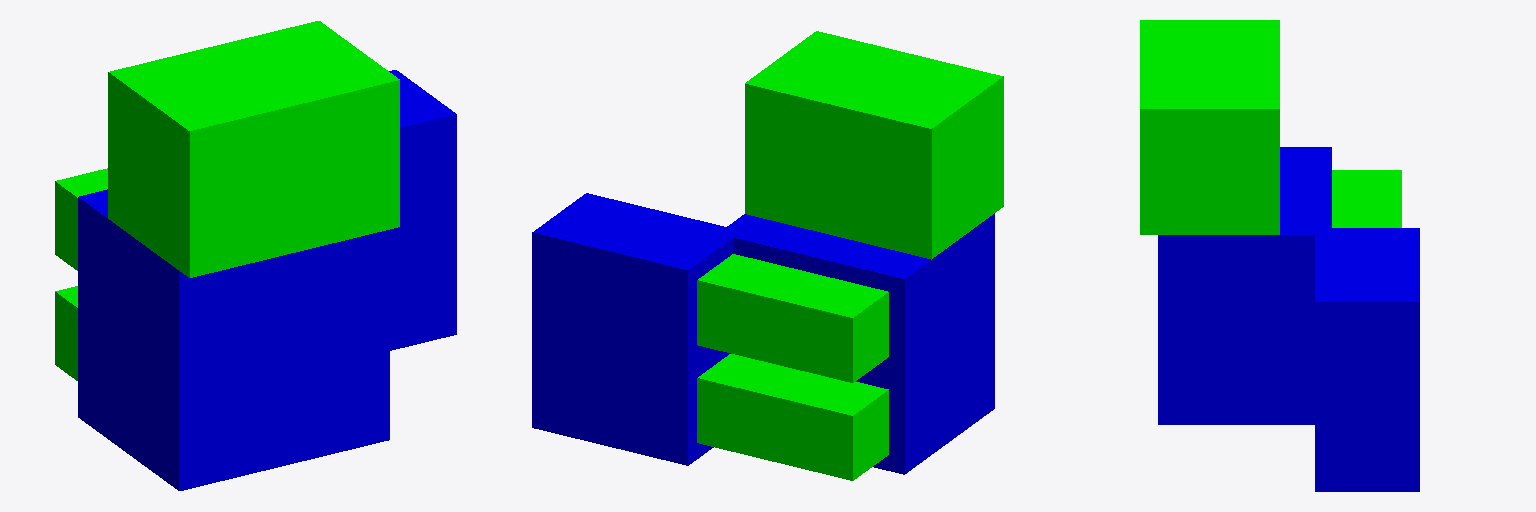
robot.urdf — robot:
<robot name = "robot">
    <link name="root">
        <inertial>
            <origin xyz="0.0 0.0 1.5" rpy="0 0 0"/>
            <mass value="1" />
            <inertia ixx="100" ixy="0" ixz="0" iyy="100" iyz="0" izz="100" />
        </inertial>
        <visual>
            <origin xyz="0.0 0.0 1.5" rpy="0 0 0"/>
            <geometry>
                <box size="0 0 0.0001" />
            </geometry>
            <material name="Green">
                <color rgba="0 1.0 0.0 1.0"/>
            </material>
        </visual>
        <collision>
            <origin xyz="0.0 0.0 1.5" rpy="0 0 0"/>
            <geometry>
                <box size="0 0 0.0001" />
            </geometry>
        </collision>
    </link>
    <joint name="root_000" type="revolute">
       <parent link="root"/>
       <child  link="000"/>
       <origin rpy="0 0 0" xyz="0.0 0.0 1.5" />
     <axis xyz="1 0 0"/>
       <limit effort="0.0" lower="-3.14159" upper="3.14159" velocity="0.0"/>
    </joint>
    <link name="000">
        <inertial>
            <origin xyz="0.0 0.1 0.0" rpy="0 0 0"/>
            <mass value="1" />
            <inertia ixx="100" ixy="0" ixz="0" iyy="100" iyz="0" izz="100" />
        </inertial>
        <visual>
            <origin xyz="0.0 0.1 0.0" rpy="0 0 0"/>
            <geometry>
                <box size="0.6 0.2 0.4" />
            </geometry>
            <material name="Green">
                <color rgba="0 1.0 0.0 1.0"/>
            </material>
        </visual>
        <collision>
            <origin xyz="0.0 0.1 0.0" rpy="0 0 0"/>
            <geometry>
                <box size="0.6 0.2 0.4" />
            </geometry>
        </collision>
    </link>
    <joint name="000_010" type="revolute">
       <parent link="000"/>
       <child  link="010"/>
       <origin rpy="0 0 0" xyz="0.0 0.2 -0.0" />
     <axis xyz="0 1 0"/>
       <limit effort="0.0" lower="-3.14159" upper="3.14159" velocity="0.0"/>
    </joint>
    <link name="010">
        <inertial>
            <origin xyz="0.0 0.1 -0.0" rpy="0 0 0"/>
            <mass value="1" />
            <inertia ixx="100" ixy="0" ixz="0" iyy="100" iyz="0" izz="100" />
        </inertial>
        <visual>
            <origin xyz="0.0 0.1 -0.0" rpy="0 0 0"/>
            <geometry>
                <box size="0.6 0.2 0.4" />
            </geometry>
            <material name="Green">
                <color rgba="0 1.0 0.0 1.0"/>
            </material>
        </visual>
        <collision>
            <origin xyz="0.0 0.1 -0.0" rpy="0 0 0"/>
            <geometry>
                <box size="0.6 0.2 0.4" />
            </geometry>
        </collision>
    </link>
    <joint name="010_010-100" type="revolute">
       <parent link="010"/>
       <child  link="010-100"/>
       <origin rpy="0 0 0" xyz="0.0 0.1 -0.2" />
     <axis xyz="0 0 1"/>
       <limit effort="0.0" lower="-3.14159" upper="3.14159" velocity="0.0"/>
    </joint>
    <link name="010-100">
        <inertial>
            <origin xyz="0.0 0.0 -0.15" rpy="0 0 0"/>
            <mass value="1" />
            <inertia ixx="100" ixy="0" ixz="0" iyy="100" iyz="0" izz="100" />
        </inertial>
        <visual>
            <origin xyz="0.0 0.0 -0.15" rpy="0 0 0"/>
            <geometry>
                <box size="0.6 0.5 0.3" />
            </geometry>
            <material name="Blue">
                <color rgba="0 0.0 1.0 1.0"/>
            </material>
        </visual>
        <collision>
            <origin xyz="0.0 0.0 -0.15" rpy="0 0 0"/>
            <geometry>
                <box size="0.6 0.5 0.3" />
            </geometry>
        </collision>
    </link>
    <joint name="010-100_010-110" type="revolute">
       <parent link="010-100"/>
       <child  link="010-110"/>
       <origin rpy="0 0 0" xyz="0.0 0.0 -0.3" />
     <axis xyz="0 0 1"/>
       <limit effort="0.0" lower="-3.14159" upper="3.14159" velocity="0.0"/>
    </joint>
    <link name="010-110">
        <inertial>
            <origin xyz="0.0 0.0 -0.15" rpy="0 0 0"/>
            <mass value="1" />
            <inertia ixx="100" ixy="0" ixz="0" iyy="100" iyz="0" izz="100" />
        </inertial>
        <visual>
            <origin xyz="0.0 0.0 -0.15" rpy="0 0 0"/>
            <geometry>
                <box size="0.6 0.5 0.3" />
            </geometry>
            <material name="Blue">
                <color rgba="0 0.0 1.0 1.0"/>
            </material>
        </visual>
        <collision>
            <origin xyz="0.0 0.0 -0.15" rpy="0 0 0"/>
            <geometry>
                <box size="0.6 0.5 0.3" />
            </geometry>
        </collision>
    </link>
    <joint name="010-110_010-110-200" type="revolute">
       <parent link="010-110"/>
       <child  link="010-110-200"/>
       <origin rpy="0 0 0" xyz="0.0 0.25 -0.15" />
     <axis xyz="0 1 0"/>
       <limit effort="0.0" lower="-3.14159" upper="3.14159" velocity="0.0"/>
    </joint>
    <link name="010-110-200">
        <inertial>
            <origin xyz="0.0 0.1 -0.0" rpy="0 0 0"/>
            <mass value="1" />
            <inertia ixx="100" ixy="0" ixz="0" iyy="100" iyz="0" izz="100" />
        </inertial>
        <visual>
            <origin xyz="0.0 0.1 -0.0" rpy="0 0 0"/>
            <geometry>
                <box size="0.5 0.2 0.2" />
            </geometry>
            <material name="Green">
                <color rgba="0 1.0 0.0 1.0"/>
            </material>
        </visual>
        <collision>
            <origin xyz="0.0 0.1 -0.0" rpy="0 0 0"/>
            <geometry>
                <box size="0.5 0.2 0.2" />
            </geometry>
        </collision>
    </link>
    <joint name="010-110-200_010-110-200-300" type="revolute">
       <parent link="010-110-200"/>
       <child  link="010-110-200-300"/>
       <origin rpy="0 0 0" xyz="0.25 0.1 -0.0" />
     <axis xyz="1 0 0"/>
       <limit effort="0.0" lower="-3.14159" upper="3.14159" velocity="0.0"/>
    </joint>
    <link name="010-110-200-300">
        <inertial>
            <origin xyz="0.25 0.0 -0.0" rpy="0 0 0"/>
            <mass value="1" />
            <inertia ixx="100" ixy="0" ixz="0" iyy="100" iyz="0" izz="100" />
        </inertial>
        <visual>
            <origin xyz="0.25 0.0 -0.0" rpy="0 0 0"/>
            <geometry>
                <box size="0.5 0.3 0.3" />
            </geometry>
            <material name="Blue">
                <color rgba="0 0.0 1.0 1.0"/>
            </material>
        </visual>
        <collision>
            <origin xyz="0.25 0.0 -0.0" rpy="0 0 0"/>
            <geometry>
                <box size="0.5 0.3 0.3" />
            </geometry>
        </collision>
    </link>
    <joint name="010-100_010-100-200" type="revolute">
       <parent link="010-100"/>
       <child  link="010-100-200"/>
       <origin rpy="0 0 0" xyz="0.0 0.25 -0.15" />
     <axis xyz="0 1 0"/>
       <limit effort="0.0" lower="-3.14159" upper="3.14159" velocity="0.0"/>
    </joint>
    <link name="010-100-200">
        <inertial>
            <origin xyz="0.0 0.1 -0.0" rpy="0 0 0"/>
            <mass value="1" />
            <inertia ixx="100" ixy="0" ixz="0" iyy="100" iyz="0" izz="100" />
        </inertial>
        <visual>
            <origin xyz="0.0 0.1 -0.0" rpy="0 0 0"/>
            <geometry>
                <box size="0.5 0.2 0.2" />
            </geometry>
            <material name="Green">
                <color rgba="0 1.0 0.0 1.0"/>
            </material>
        </visual>
        <collision>
            <origin xyz="0.0 0.1 -0.0" rpy="0 0 0"/>
            <geometry>
                <box size="0.5 0.2 0.2" />
            </geometry>
        </collision>
    </link>
    <joint name="010-100-200_010-100-200-300" type="revolute">
       <parent link="010-100-200"/>
       <child  link="010-100-200-300"/>
       <origin rpy="0 0 0" xyz="0.25 0.1 -0.0" />
     <axis xyz="1 0 0"/>
       <limit effort="0.0" lower="-3.14159" upper="3.14159" velocity="0.0"/>
    </joint>
    <link name="010-100-200-300">
        <inertial>
            <origin xyz="0.25 0.0 -0.0" rpy="0 0 0"/>
            <mass value="1" />
            <inertia ixx="100" ixy="0" ixz="0" iyy="100" iyz="0" izz="100" />
        </inertial>
        <visual>
            <origin xyz="0.25 0.0 -0.0" rpy="0 0 0"/>
            <geometry>
                <box size="0.5 0.3 0.3" />
            </geometry>
            <material name="Blue">
                <color rgba="0 0.0 1.0 1.0"/>
            </material>
        </visual>
        <collision>
            <origin xyz="0.25 0.0 -0.0" rpy="0 0 0"/>
            <geometry>
                <box size="0.5 0.3 0.3" />
            </geometry>
        </collision>
    </link>
</robot>

--- Facts derived from the render (not from the file) ---
Views: 3 orthographic renders of the robot side by side, from view 1: azimuth 30°, elevation 25°; view 2: azimuth 150°, elevation 25°; view 3: azimuth 270°, elevation 25°.
Robot: robot — 9 links, 8 joints (8 revolute); root link root; default pose: every joint at zero.
Links seen in each view (by area): view 1: 000, 010-110, 010-100, [phone redacted] (×4), 010; view 2: [phone redacted] (×4), 010, 010-100, 000, 010-110; view 3: [phone redacted] (×3), 010-100, 000, 010, 010-110.
Boxes of the visible links, x1,y1,x2,y2 form: 000: (149, 50, 399, 277); 010-110: (78, 307, 389, 490); 010-100: (78, 189, 389, 380); [phone redacted] (×4): (55, 70, 456, 380); 010: (108, 21, 358, 247); [phone redacted] (×4): (532, 193, 888, 480); 010: (745, 57, 967, 259); 010-100: (727, 213, 994, 376); 000: (782, 31, 1003, 232); 010-110: (856, 311, 994, 474); [phone redacted] (×3): (1315, 170, 1419, 491); 010-100: (1158, 147, 1331, 329); 000: (1140, 20, 1209, 234); 010: (1210, 20, 1279, 234); 010-110: (1158, 330, 1314, 424).
Size in the robot's own frame: 1.05 by 0.8 by 1 metres.
Geometry: primitives only (box / cylinder / sphere), no mesh files.
